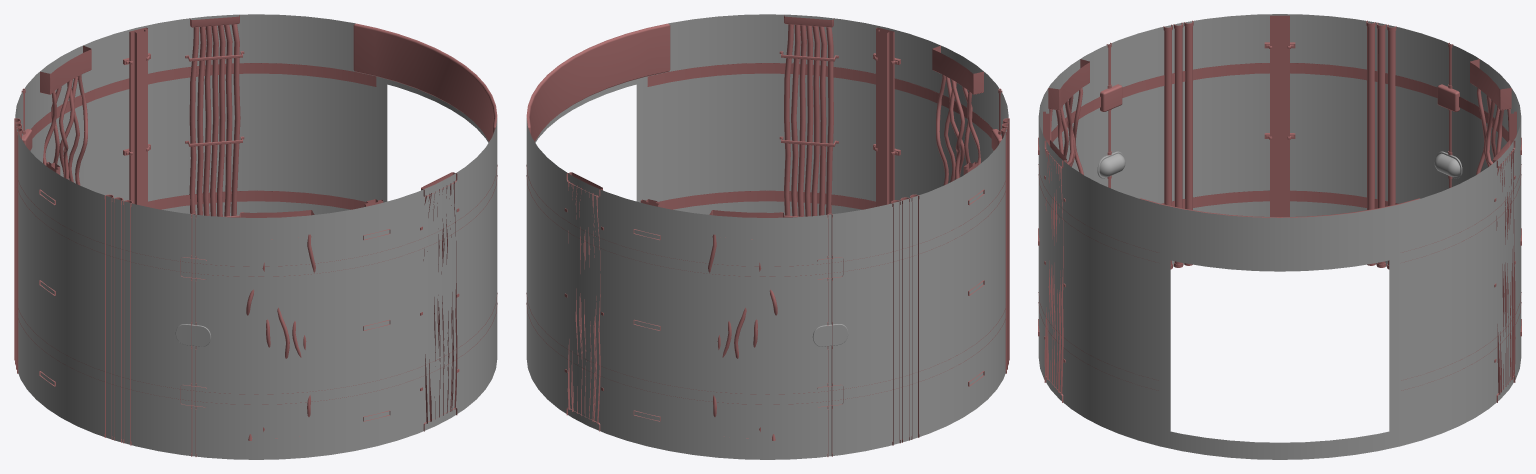
Rendered from ShaftSectionDoor.fbx.
The picture shows the model from 3 angles, left to right: view 1: azimuth 30°, elevation 25°; view 2: azimuth 150°, elevation 25°; view 3: azimuth 270°, elevation 25°; orthographic projection.
Visible parts, largest first — view 1: ShaftSectionDoor; view 2: ShaftSectionDoor; view 3: ShaftSectionDoor.
Part boxes in pixels (x1,y1,x2,y2): ShaftSectionDoor: (14,14,497,459); ShaftSectionDoor: (526,14,1009,459); ShaftSectionDoor: (1038,14,1521,459).
Size of the model in its own units: 712 by 394 by 713.
